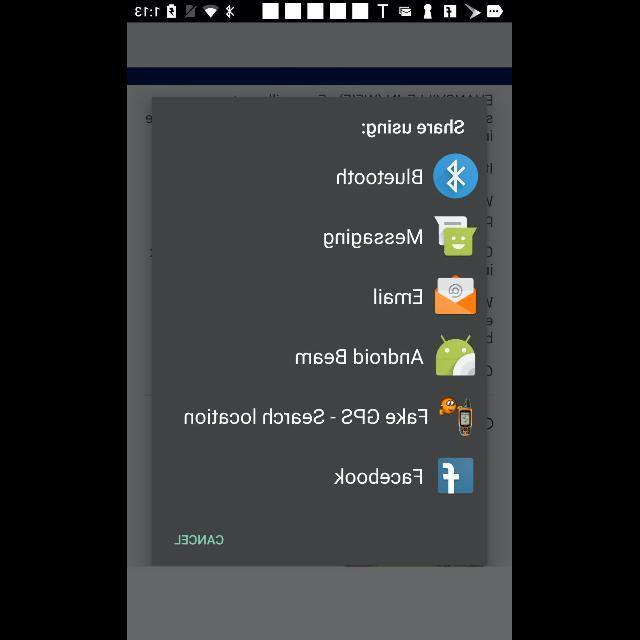icon: (433, 153, 479, 199), (438, 458, 474, 494)
image: (434, 216, 478, 256), (436, 334, 476, 376), (435, 275, 477, 315), (439, 395, 473, 437)
panel: (152, 97, 488, 565)
text: (184, 408, 428, 426), (296, 348, 424, 366), (324, 228, 424, 250), (362, 120, 466, 138), (337, 168, 423, 186), (335, 468, 423, 484), (374, 288, 424, 304), (174, 534, 224, 546)
uppertaskbar: (128, 1, 512, 23)
